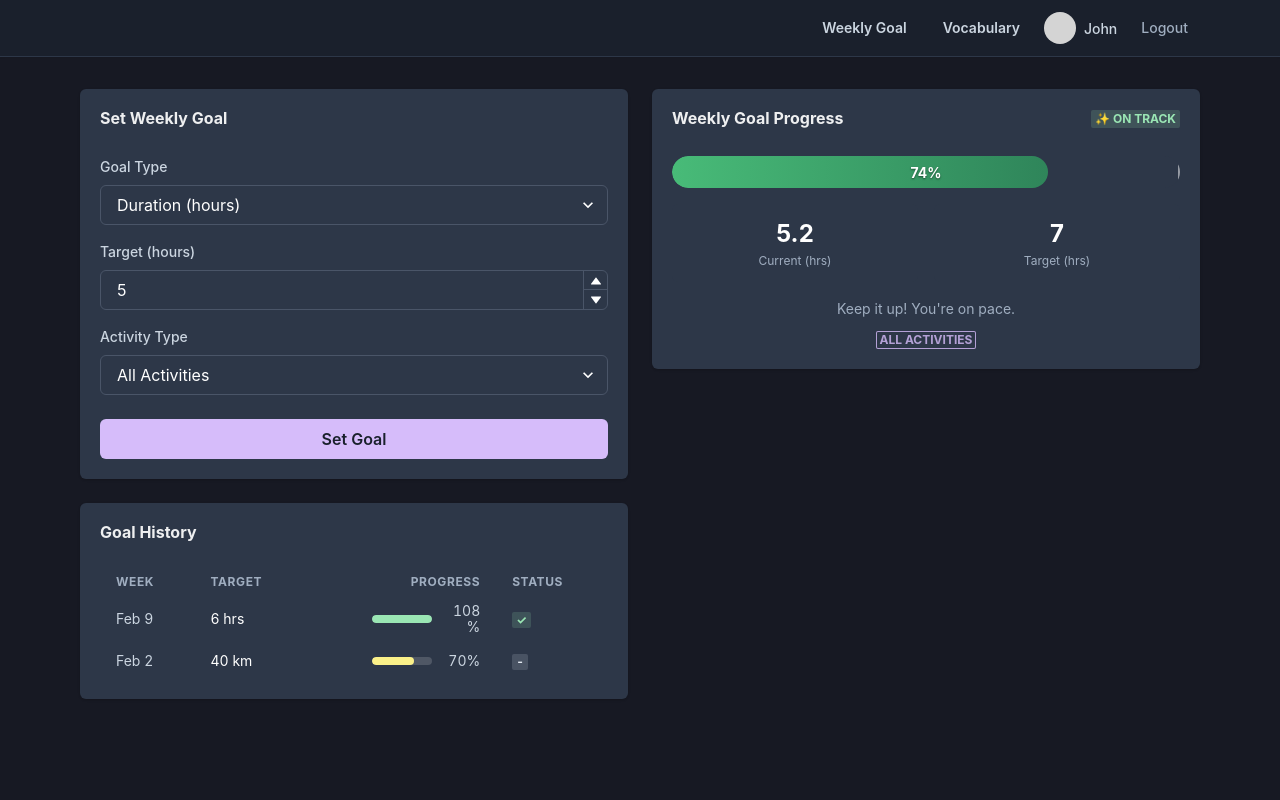
Scenario: WeeklyGoal › form interactions › changes goal type to distance
Select "Distance (km)" in the dropdown labelled "Goal Type" at point(354, 205), box [100,185,608,225]
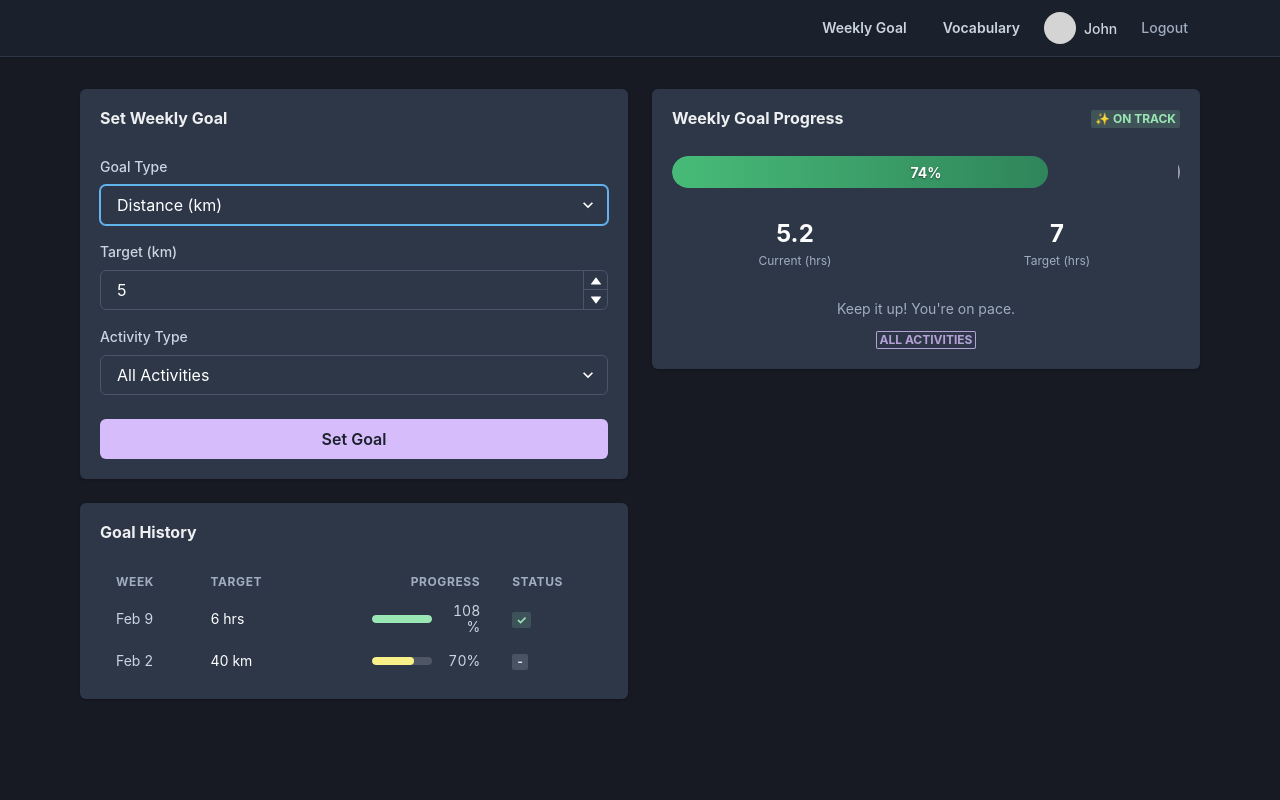
Result: the text "Target (km)" is shown at [100,243,177,260]
